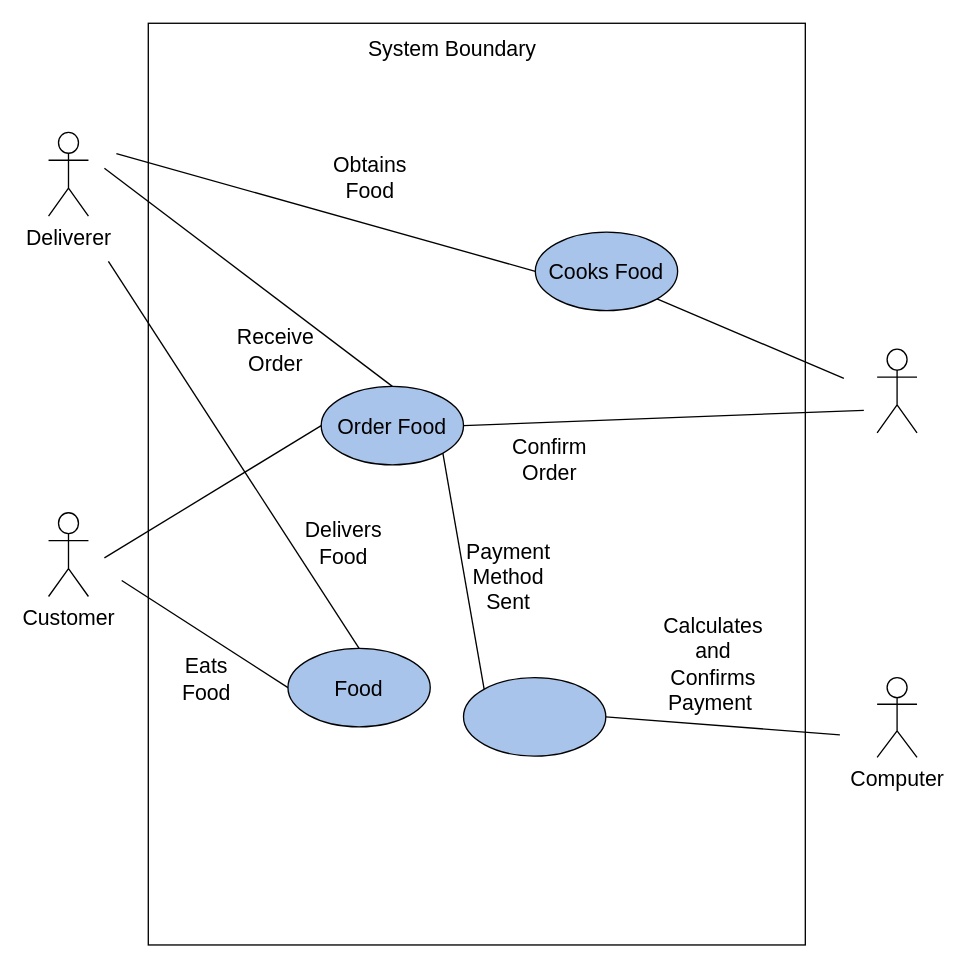
The diagram is 967 pixels wide and 968 high, and some of its shapes have lost their labels. The box of each missing label's shape, as (x1, y1, x2, y2) in pixels:
Chef: (876, 348, 917, 433)
Process Payment: (462, 676, 606, 756)
